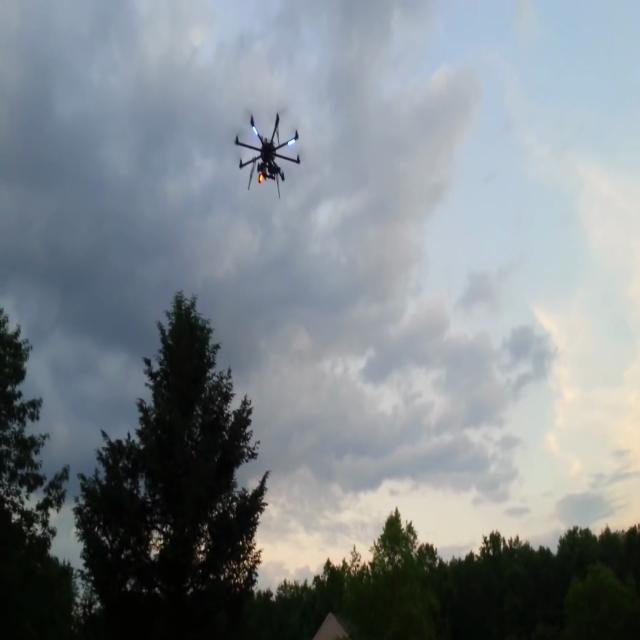drone: (232, 100, 325, 207)
